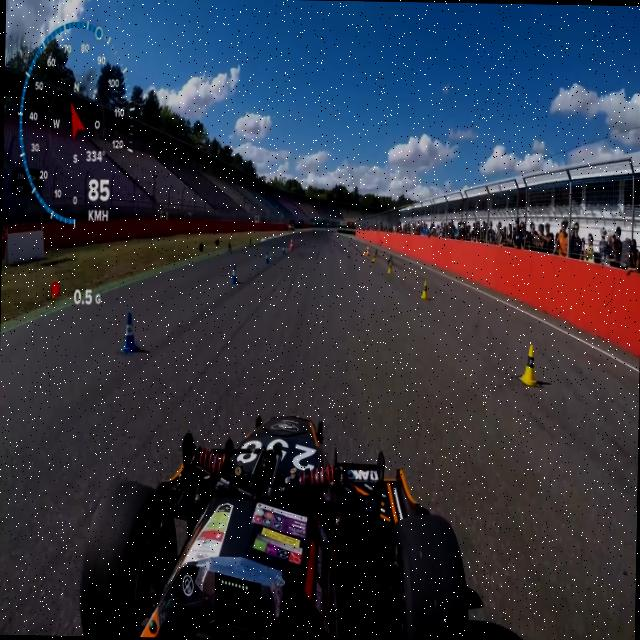blue_cone: (122, 310, 140, 352), (231, 264, 239, 284), (264, 252, 270, 264)
yellow_cone: (518, 343, 540, 386), (420, 280, 429, 300), (387, 260, 393, 274)
